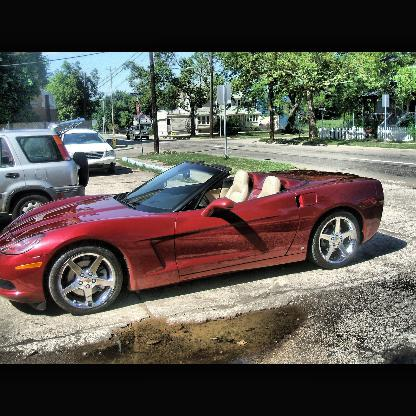Chevrolet Corvette Convertible 2012: (2, 158, 388, 318)
